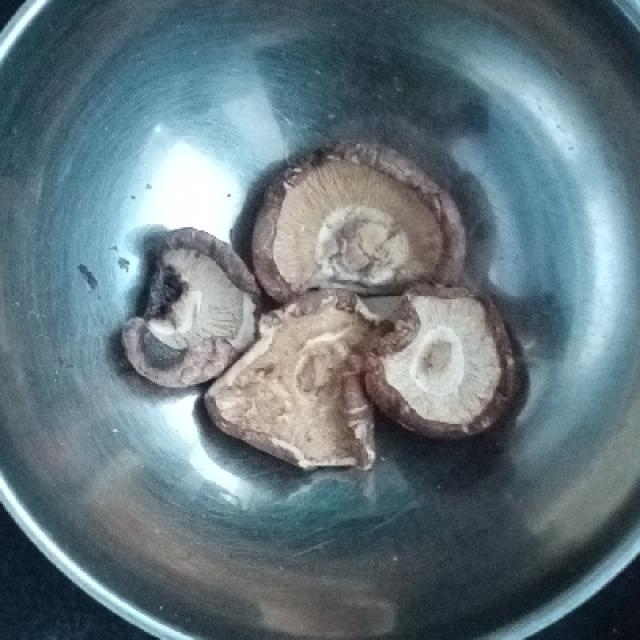Lentinus edodes: (251, 144, 466, 301), (206, 288, 389, 470), (359, 279, 523, 437), (125, 227, 259, 389)
